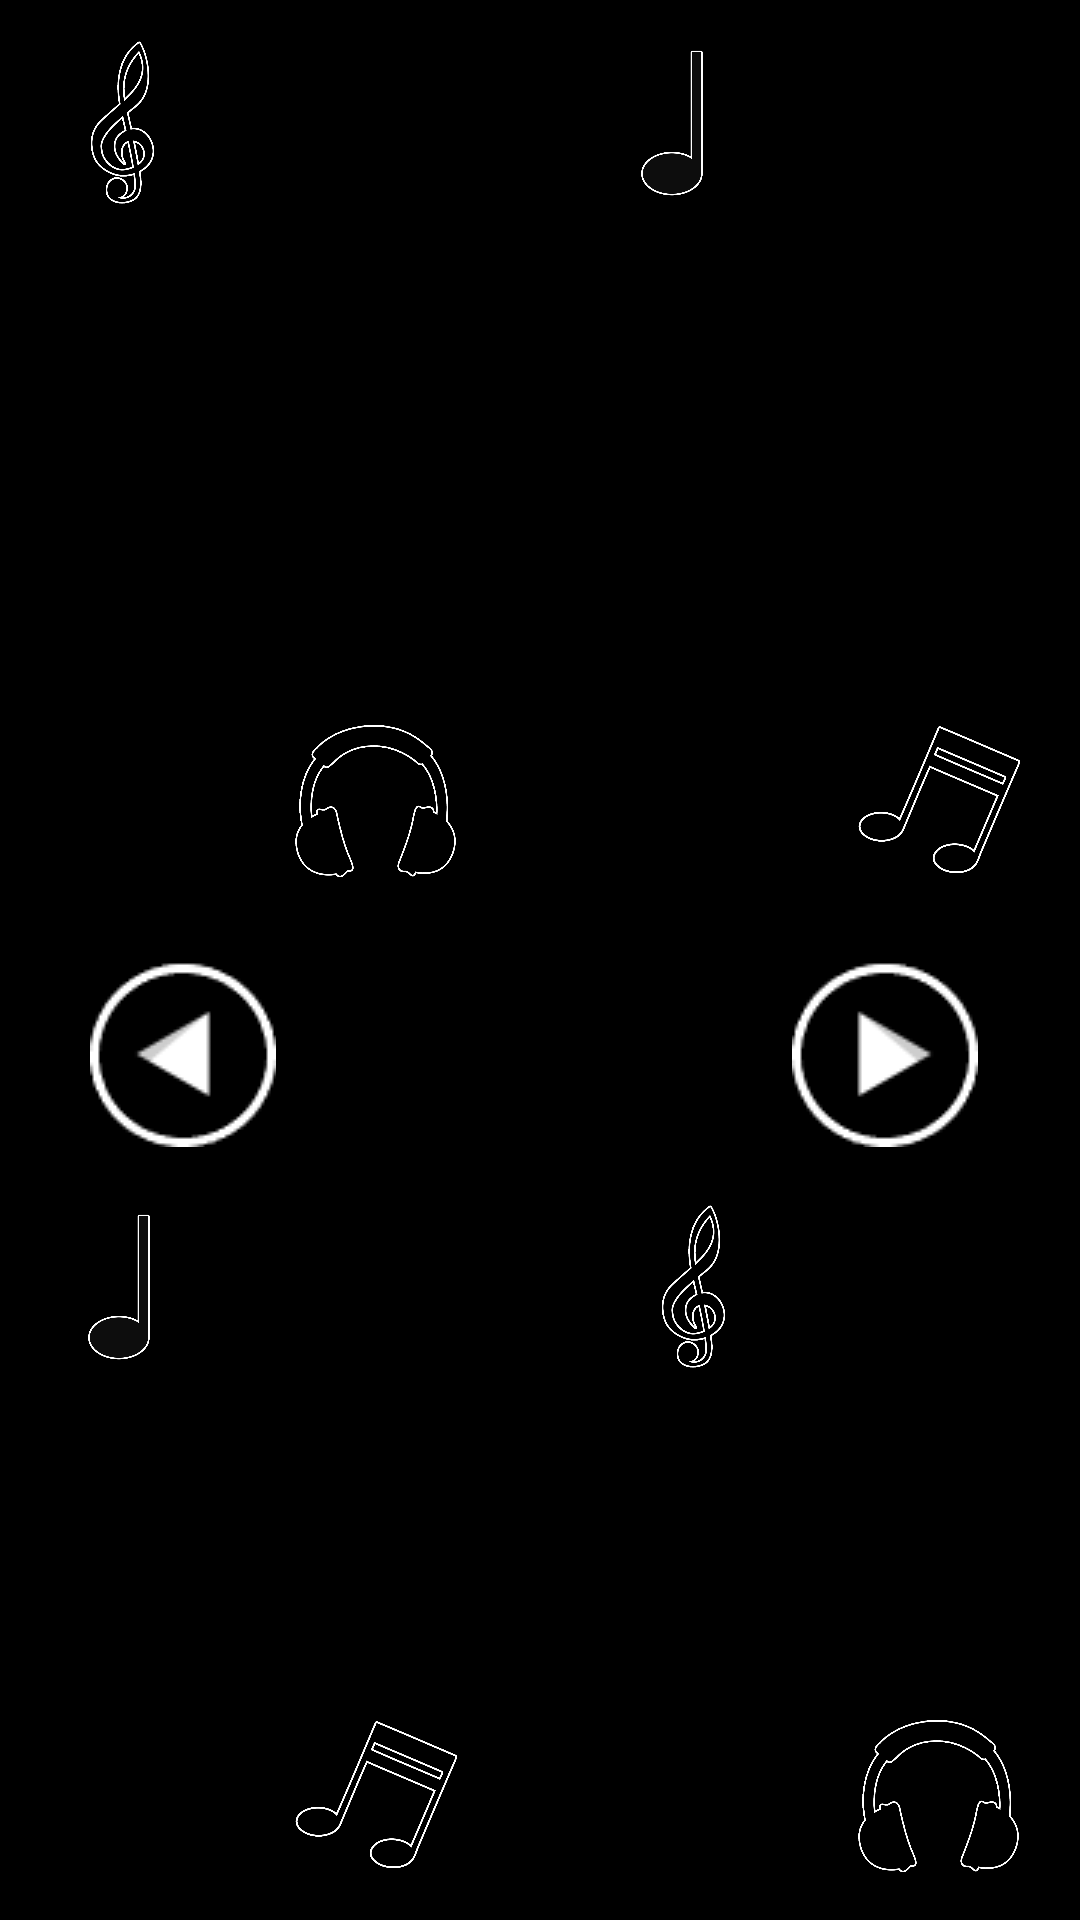

Screen size 1080×1920. Icon name, then its center in pixels as [x,y]:
lbutton: [183,1055]
rbutton: [885,1055]
